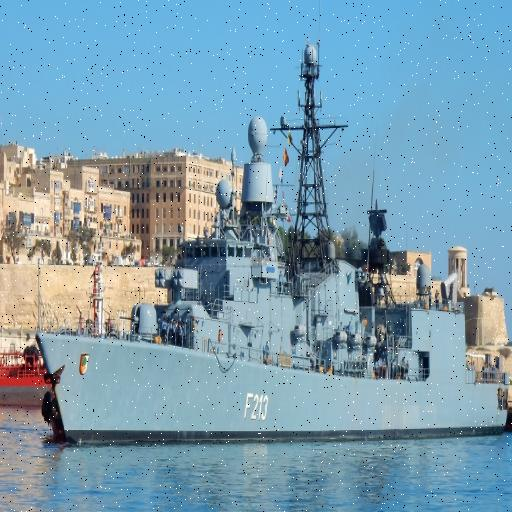Fragata: (31, 36, 512, 457)
